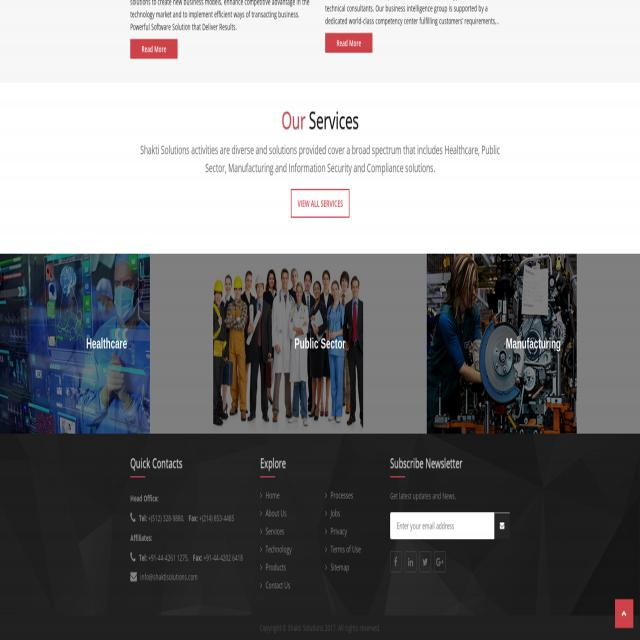button: (432, 196, 571, 492), (0, 254, 150, 434), (213, 254, 363, 434), (291, 189, 349, 218), (494, 512, 510, 539), (616, 600, 632, 626)
field: (390, 512, 510, 539)
